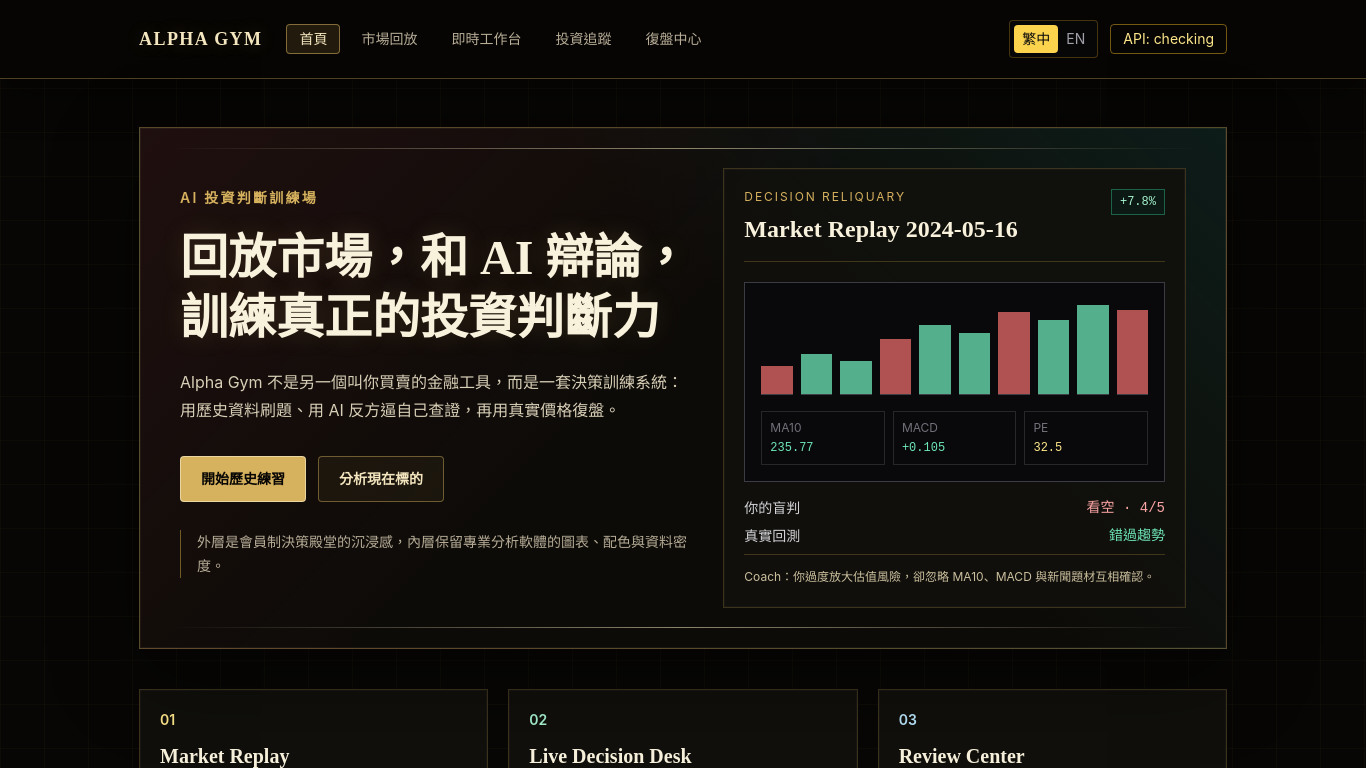
Scenario: App › falls back to a direct backend when the practice dev proxy misses
The image size is (1366, 768).
Click the button "EN" at (1076, 39), box [1058, 25, 1093, 53]
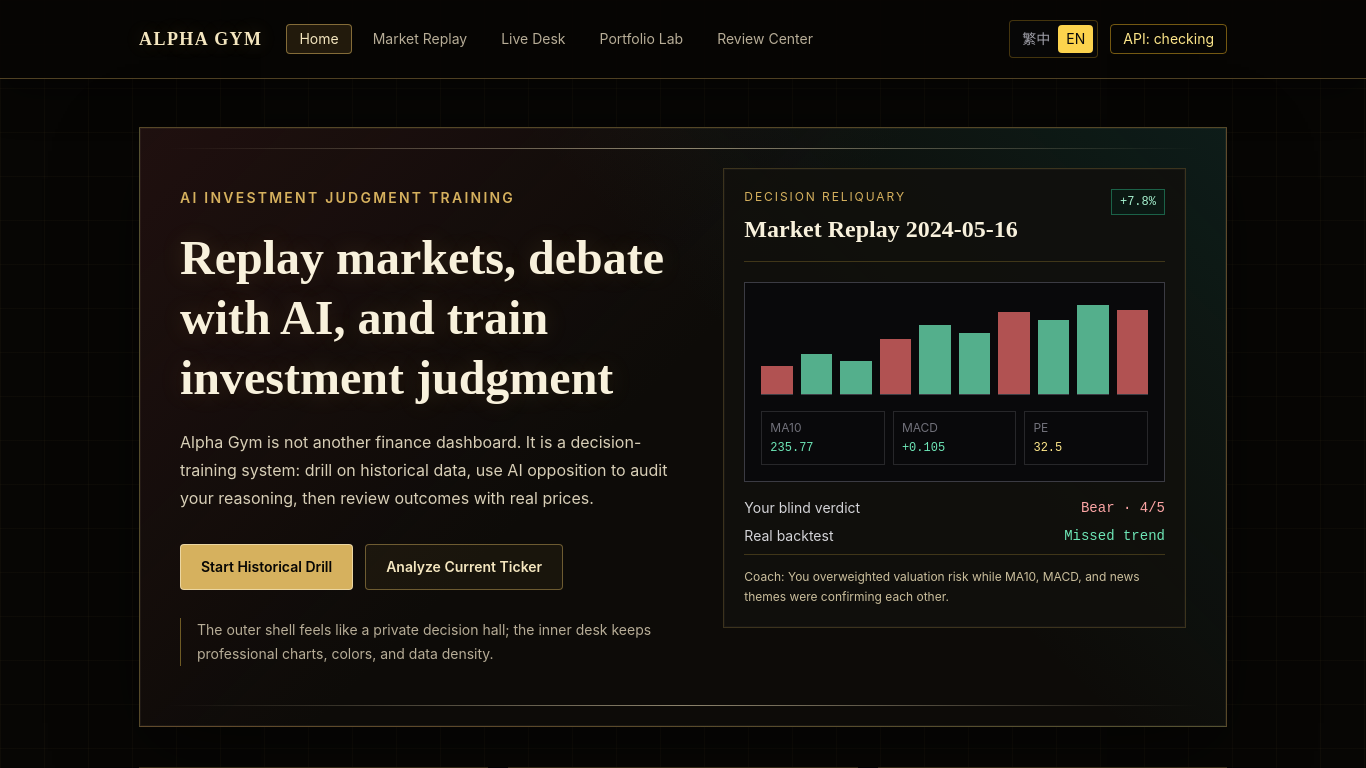
Click the button "Market Replay" at (420, 39), box [360, 24, 480, 54]
(page scrolled)
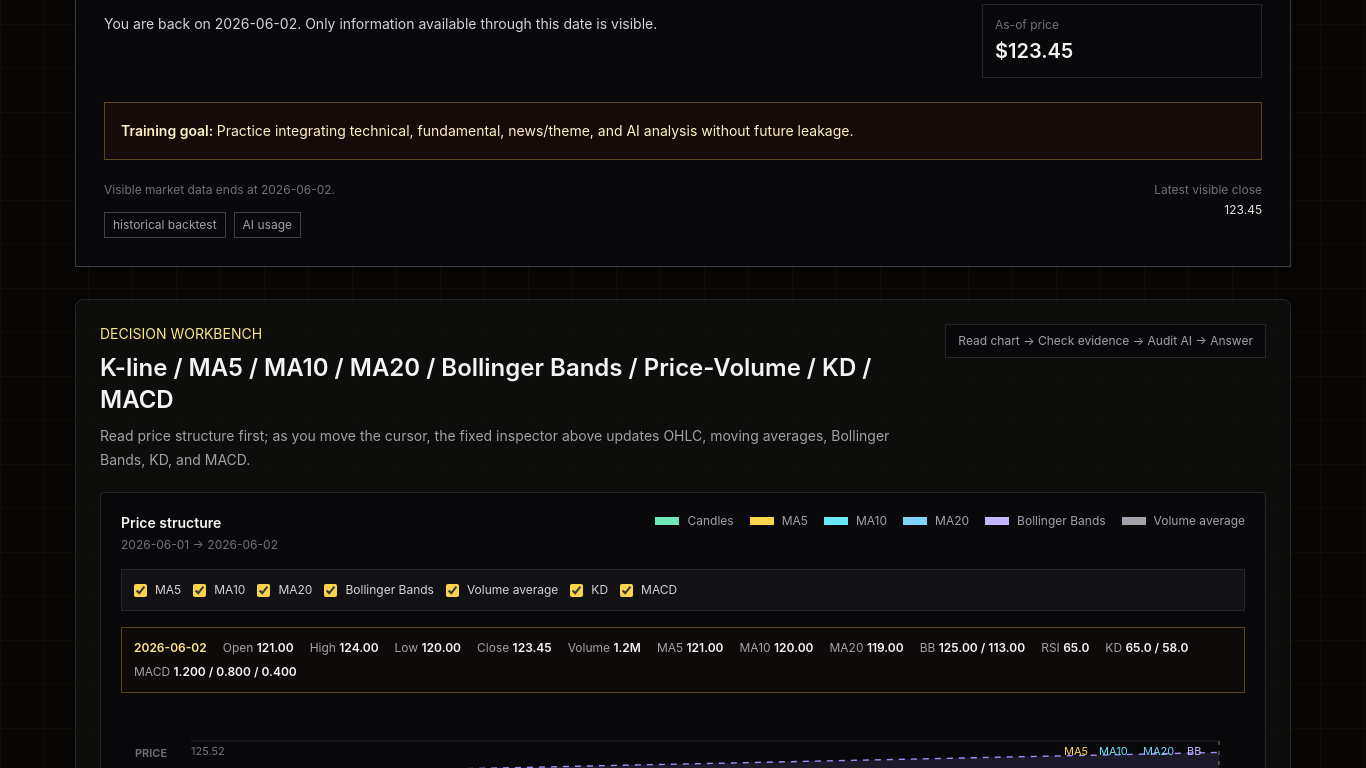
Check: the heading "K-line / MA5 / MA10 / MA20 / Bollinger Bands / Price-Volume / KD / MACD" is shown, box [100, 352, 921, 416]
